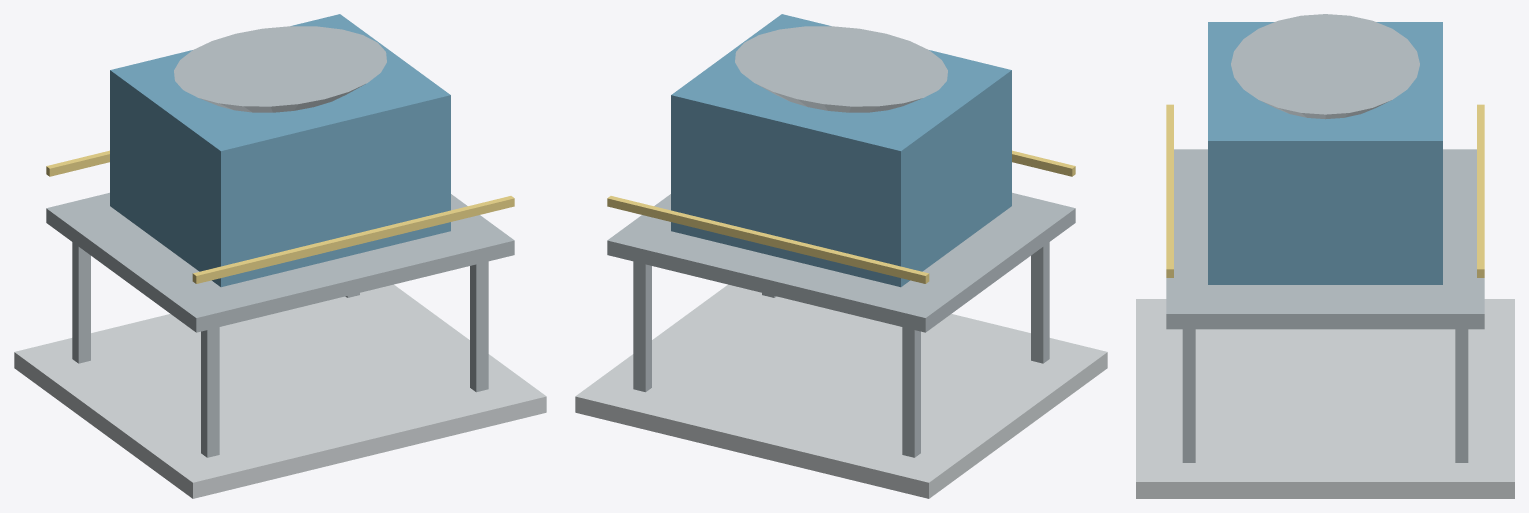
File: crusher.glb
3 views of the same model, side by side, from view 1: azimuth 30°, elevation 25°; view 2: azimuth 150°, elevation 25°; view 3: azimuth 270°, elevation 25° (orthographic). The views are drawn at different scales.
Parts seen in each view (by area): view 1: crusher; view 2: crusher; view 3: crusher.
Boxes of the visible parts, left/top/right/bottom form: crusher: left=14, top=14, right=546, bottom=498; crusher: left=575, top=14, right=1107, bottom=498; crusher: left=1136, top=14, right=1514, bottom=498.
Bounding box in the file's own units: 8 × 7 × 7.
